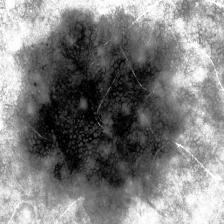Benign Marking or Mole: (23, 15, 190, 200)
